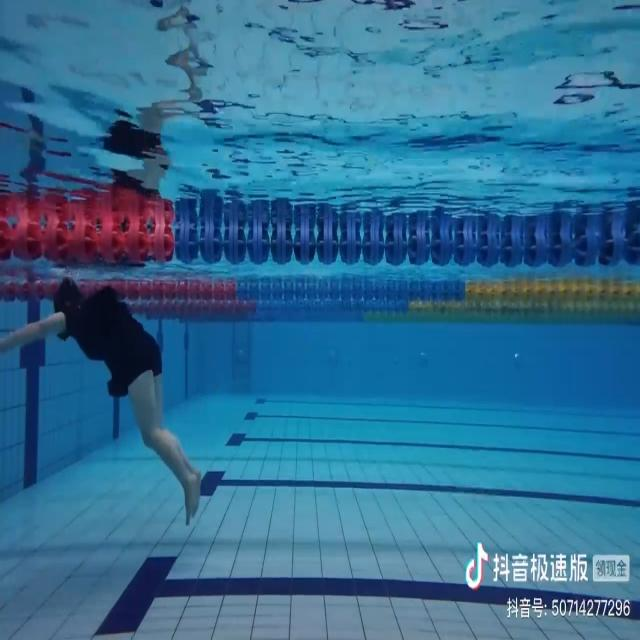Swimming: (0, 279, 202, 529)
